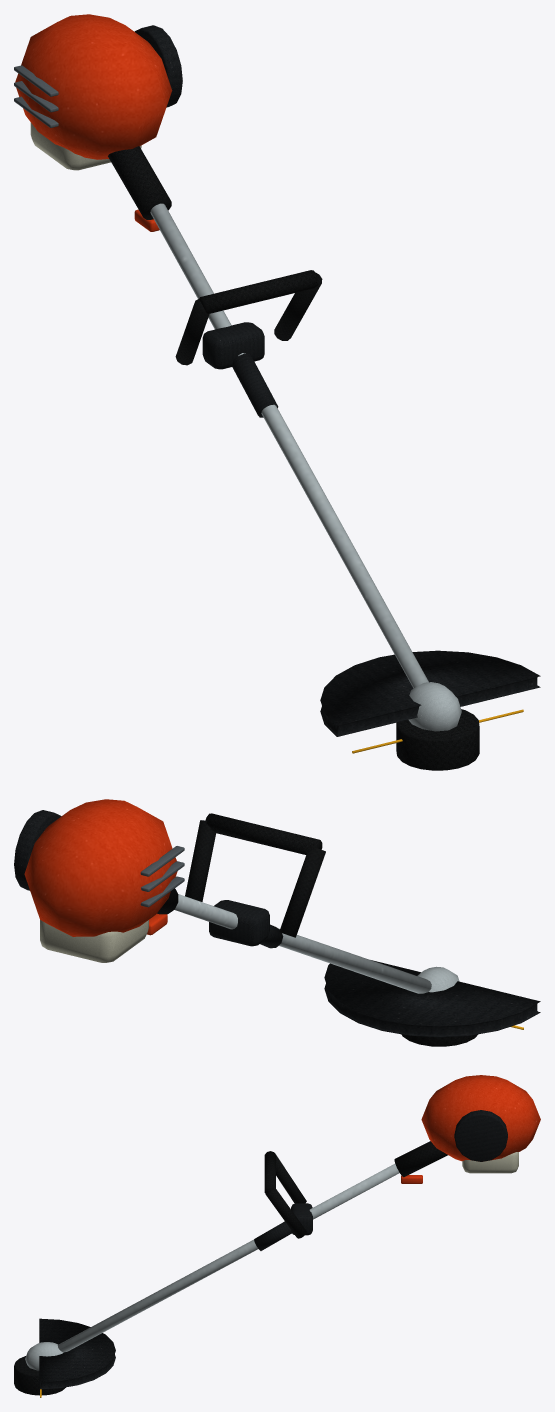
File: Trimmer_Petrol.gltf
The picture shows the model from 3 angles, top to bottom: view 1: azimuth 30°, elevation 25°; view 2: azimuth 150°, elevation 25°; view 3: azimuth 270°, elevation 25°; orthographic projection. The views are drawn at different scales.
Parts seen in each view (by area): view 1: Trimmer_Petrol__Body, Trimmer_Petrol__Spool; view 2: Trimmer_Petrol__Body, Trimmer_Petrol__Spool; view 3: Trimmer_Petrol__Body, Trimmer_Petrol__Spool.
Boxes of the visible parts, box(x1,y1,x2,y2) form: Trimmer_Petrol__Body: box(14, 14, 540, 736); Trimmer_Petrol__Spool: box(352, 709, 523, 770); Trimmer_Petrol__Body: box(14, 799, 540, 1037); Trimmer_Petrol__Spool: box(401, 1025, 523, 1046); Trimmer_Petrol__Body: box(25, 1075, 540, 1389); Trimmer_Petrol__Spool: box(14, 1356, 65, 1397).
Size of the model in its own units: 0.4791 by 1.09 by 1.68.
Materials: 1 (1 with a texture image).
